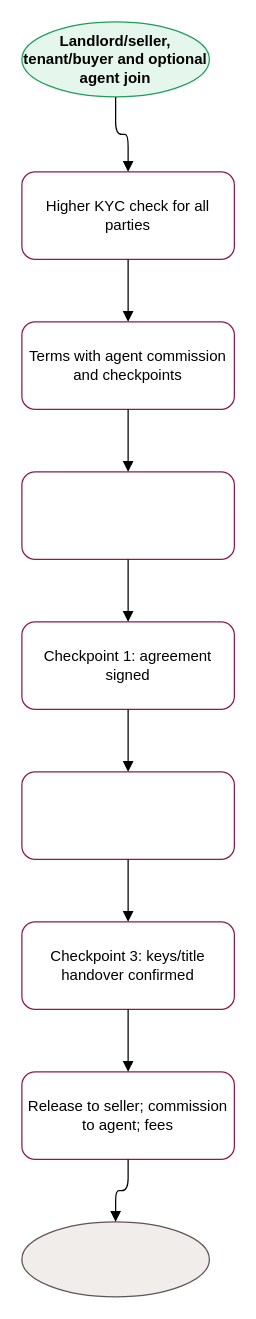
Some shapes in this 256 by 1319 pixel diagram are drawn without their labels. Here are the shapes that lost their labels. From the top down, the centre of each, then its label:
point (127, 515): Buyer funds deal account
point (127, 815): Checkpoint 2: inspection
point (115, 1259): Closed
